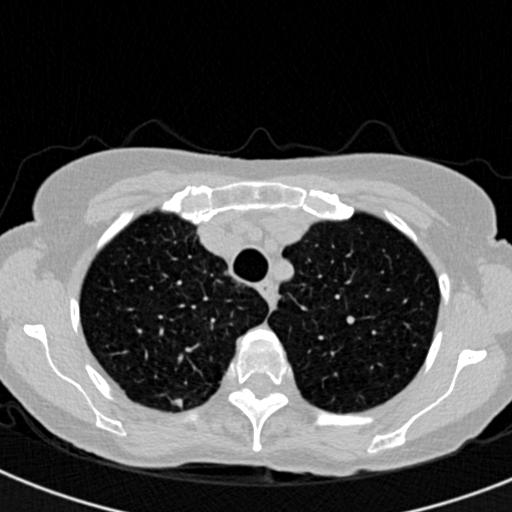nodule: (171, 396, 185, 410)
